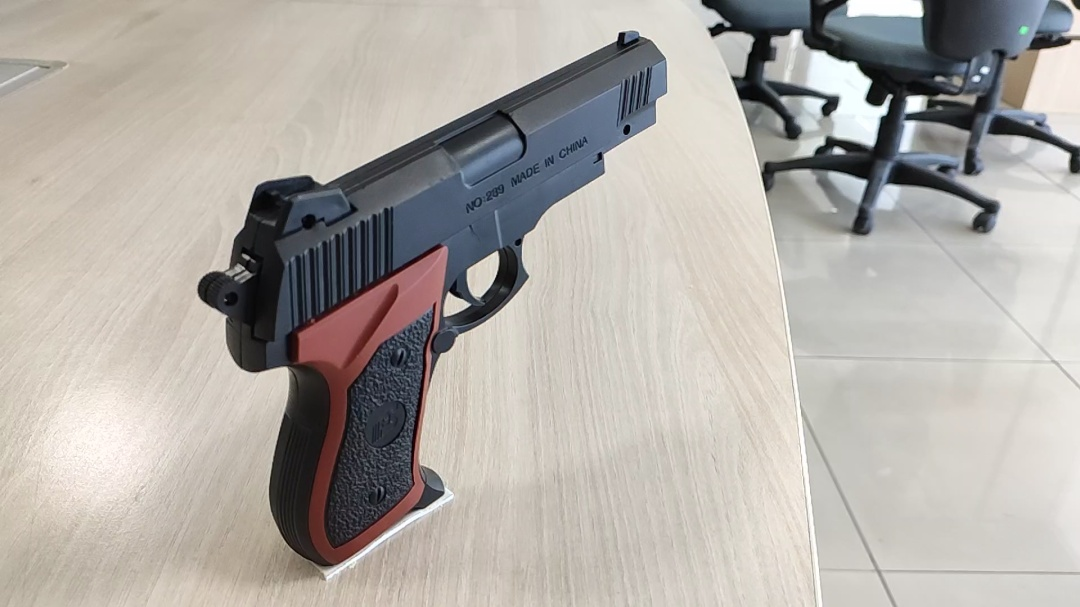gun: (611, 276, 674, 304)
